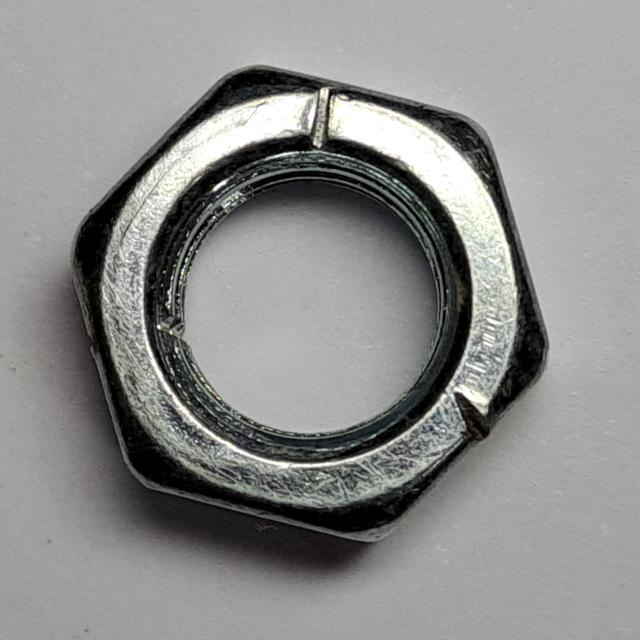Scratches: (55, 44, 564, 561)
